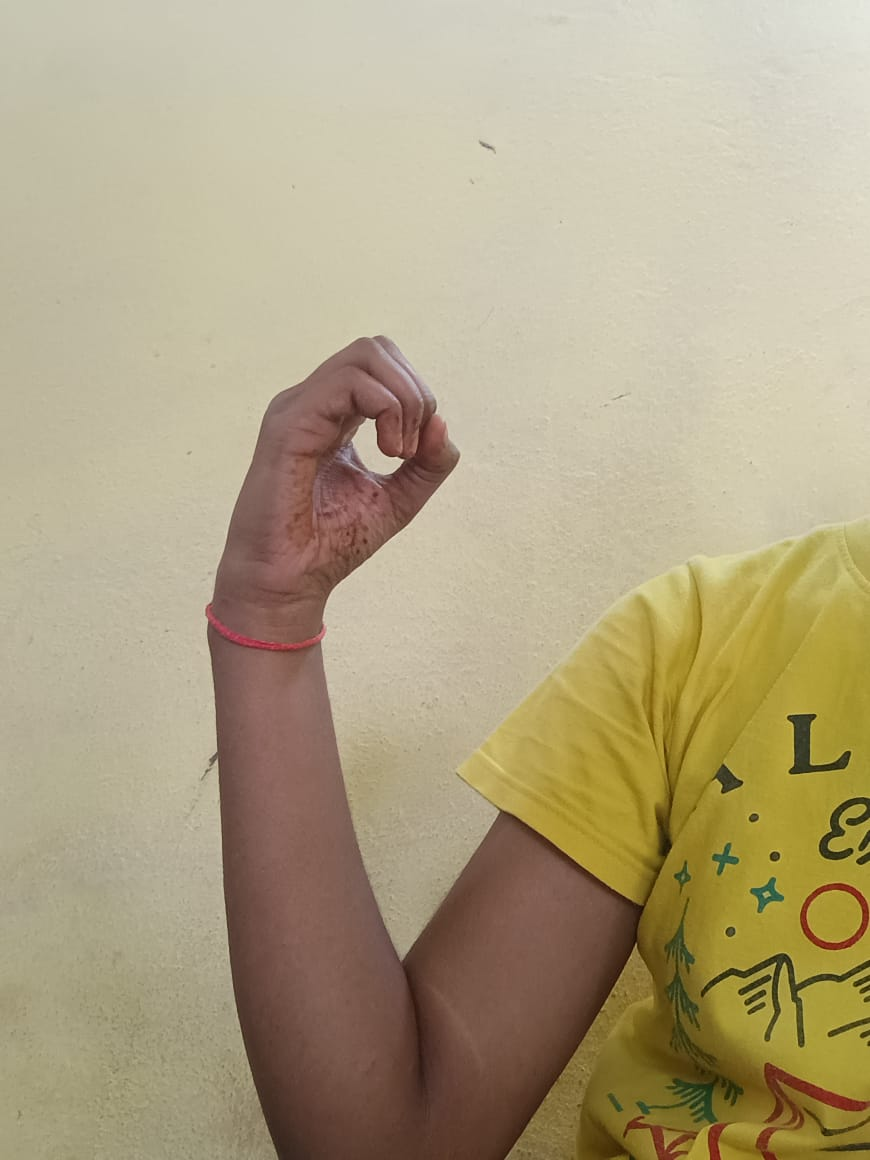O: (224, 336, 462, 564)
